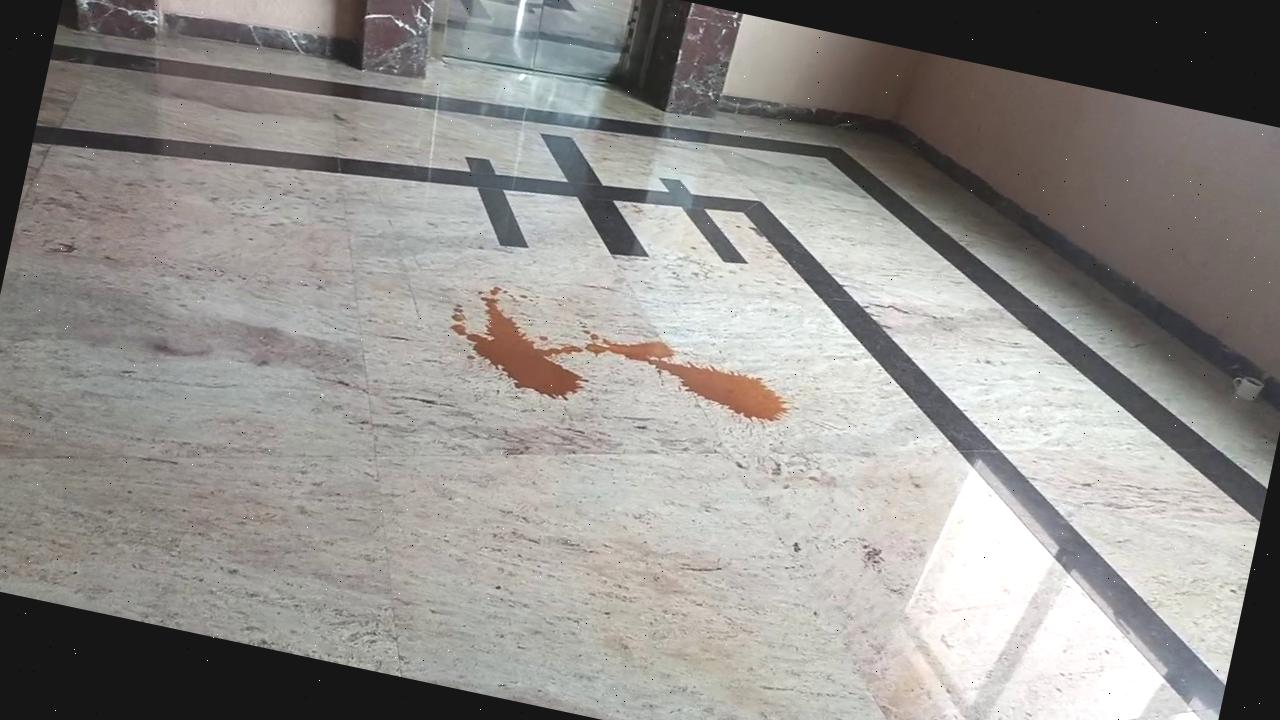dirty_floor: (436, 277, 802, 449)
